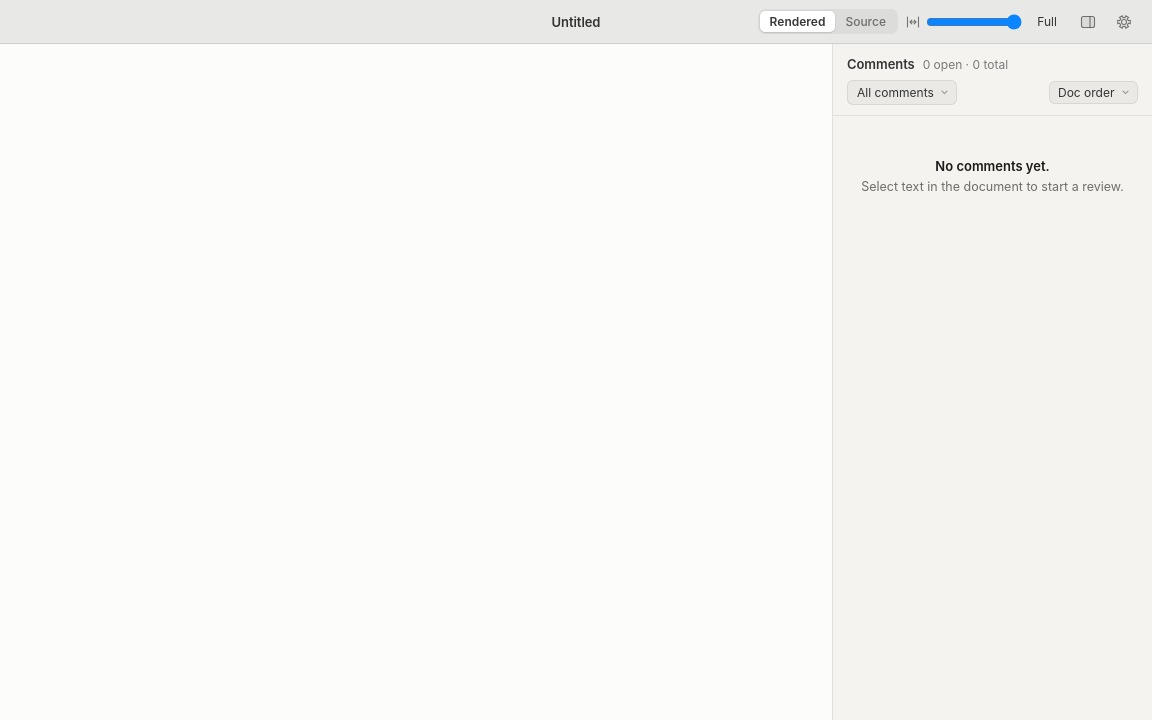
Settings → AI agents › reports a failed write on the row and offers Retry, with the old folder intact
What coordinates should you click on to do the following:
click the button with test id "fm-titlebar-settings"
I would click on:
 (1124, 22)
Its box is top-left (1110, 10), bottom-right (1138, 34).
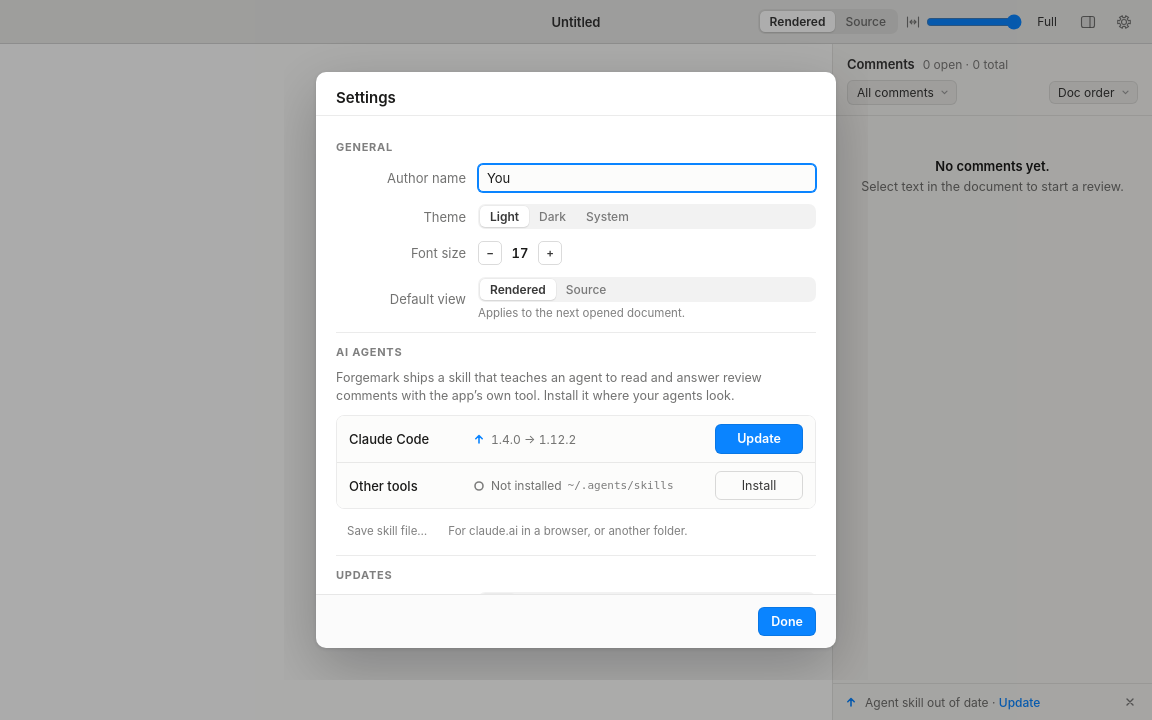
Expected: the element with test id "fm-skill-rows" is shown, top-left (336, 415), bottom-right (816, 509)
Expected: the button with test id "fm-skill-action-claude-code" reads "Update"
What coordinates should you click on to do the following:
click the button with test id "fm-skill-action-claude-code"
I would click on:
 (759, 439)
Its box is top-left (715, 424), bottom-right (803, 454).
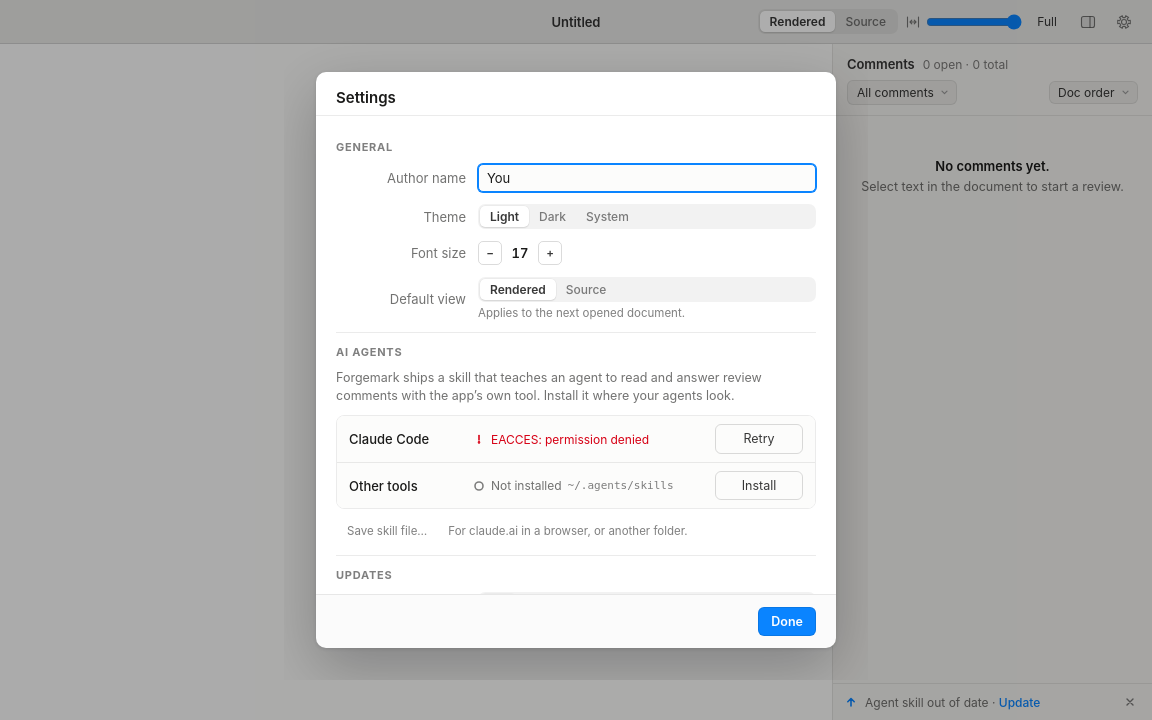
Expected: the element with test id "fm-skill-status-claude-code" shows "permission denied", top-left (491, 432), bottom-right (649, 446)
Expected: the button with test id "fm-skill-action-claude-code" reads "Retry", top-left (715, 424), bottom-right (803, 454)
